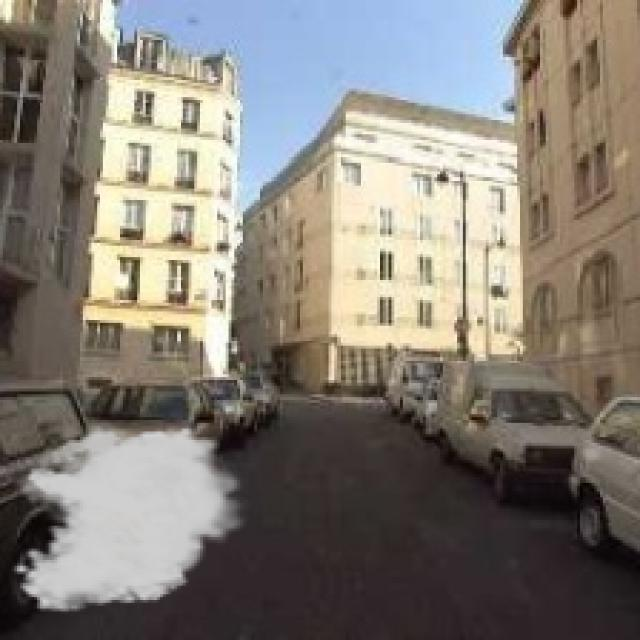smoke: (12, 414, 252, 614)
